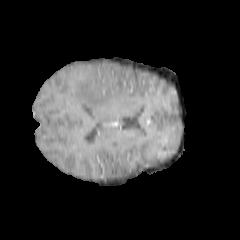glioma: (72, 79, 117, 109)
